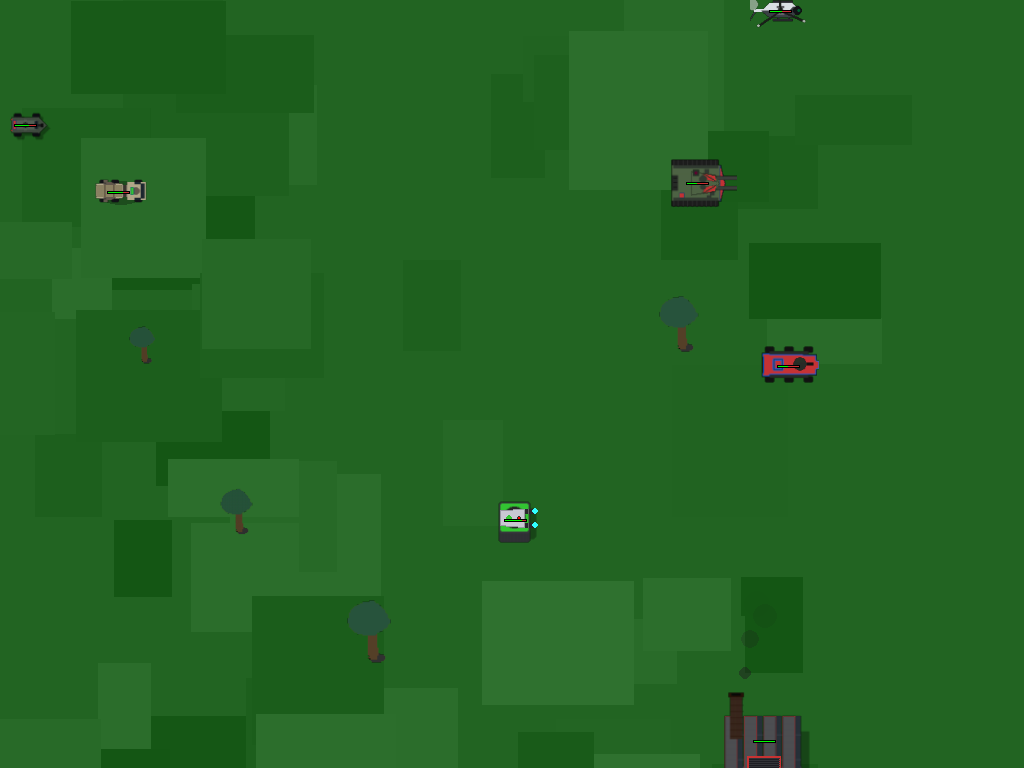APC_usa: (762, 339, 804, 389)
AntiAirTurret: (490, 493, 540, 543)
ArmoredCar: (8, 106, 43, 141)
FactoryBuilding: (712, 687, 804, 768)
HIMARS: (93, 165, 143, 215)
Helicopter: (762, 0, 797, 35)
Type99: (670, 154, 725, 209)
